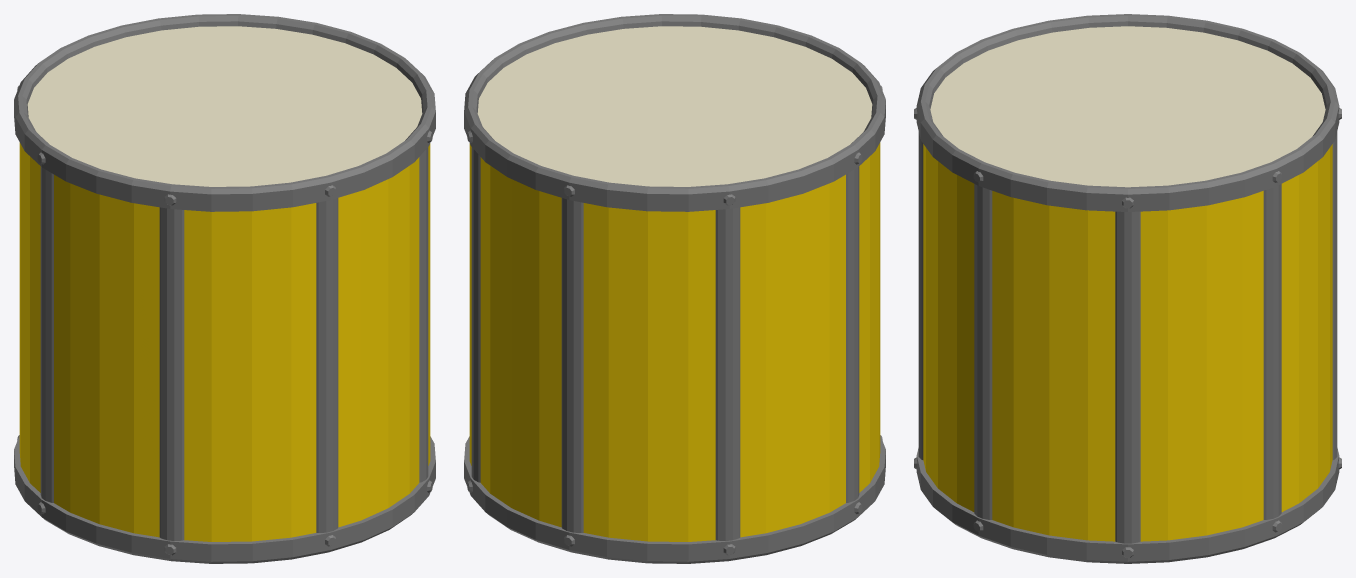
File: Medium_Drum.fbx
The picture shows the model from 3 angles, left to right: view 1: azimuth 30°, elevation 25°; view 2: azimuth 150°, elevation 25°; view 3: azimuth 270°, elevation 25°; orthographic projection.
Visible parts, largest first — view 1: x_Drum; view 2: x_Drum; view 3: x_Drum.
Boxes of the visible parts, x1=… form: x_Drum: x1=14, y1=14, x2=435, y2=563; x_Drum: x1=464, y1=14, x2=885, y2=563; x_Drum: x1=914, y1=14, x2=1341, y2=563.
Bounding box in the file's own units: 186 × 180 × 186.
Materials: 1 (1 with a texture image).
